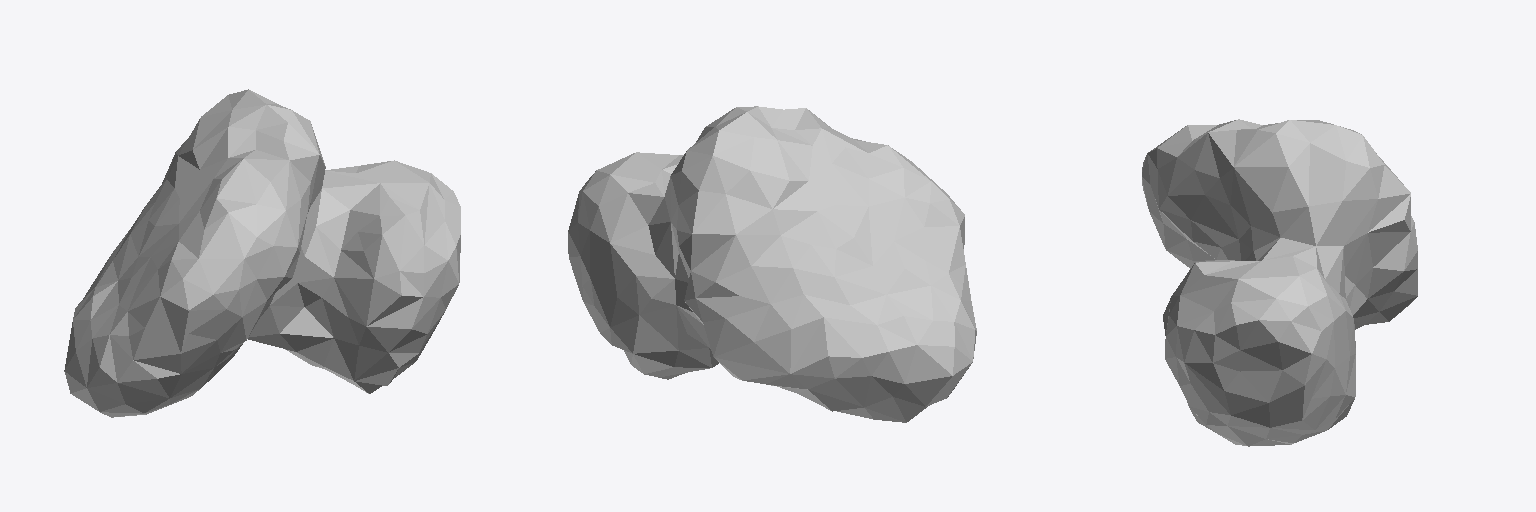
The model's file is 67P_lowres.obj.
3 renders of one model, left to right at view 1: azimuth 30°, elevation 25°; view 2: azimuth 150°, elevation 25°; view 3: azimuth 270°, elevation 25°, orthographic.
Size of the model in its own units: 4.93 by 3.6 by 3.14.